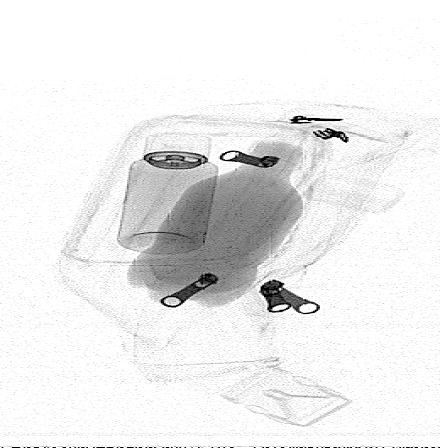Sprayer: (117, 132, 219, 256)
